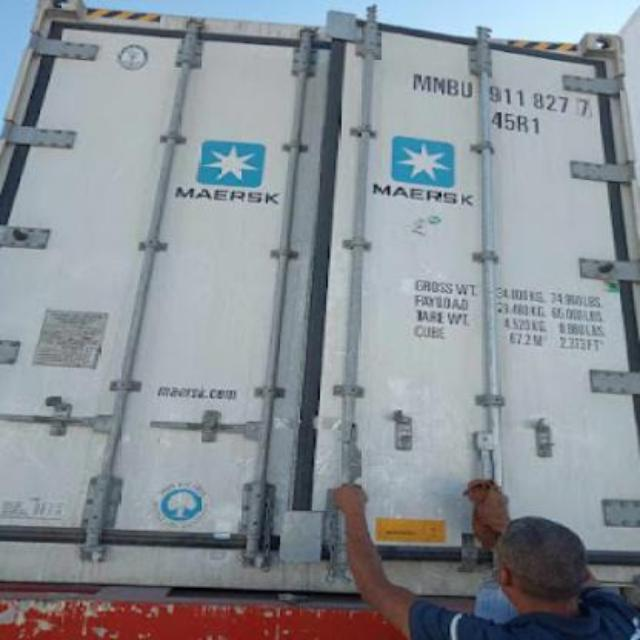1: (502, 82, 514, 108), (518, 88, 528, 108)
2: (544, 88, 556, 112)
7: (576, 96, 594, 120), (556, 93, 572, 117)
8: (532, 88, 548, 110)
9: (486, 77, 504, 106)
B: (448, 73, 460, 105)
M: (414, 67, 430, 97)
N: (428, 70, 448, 94)
U: (462, 75, 480, 105)
